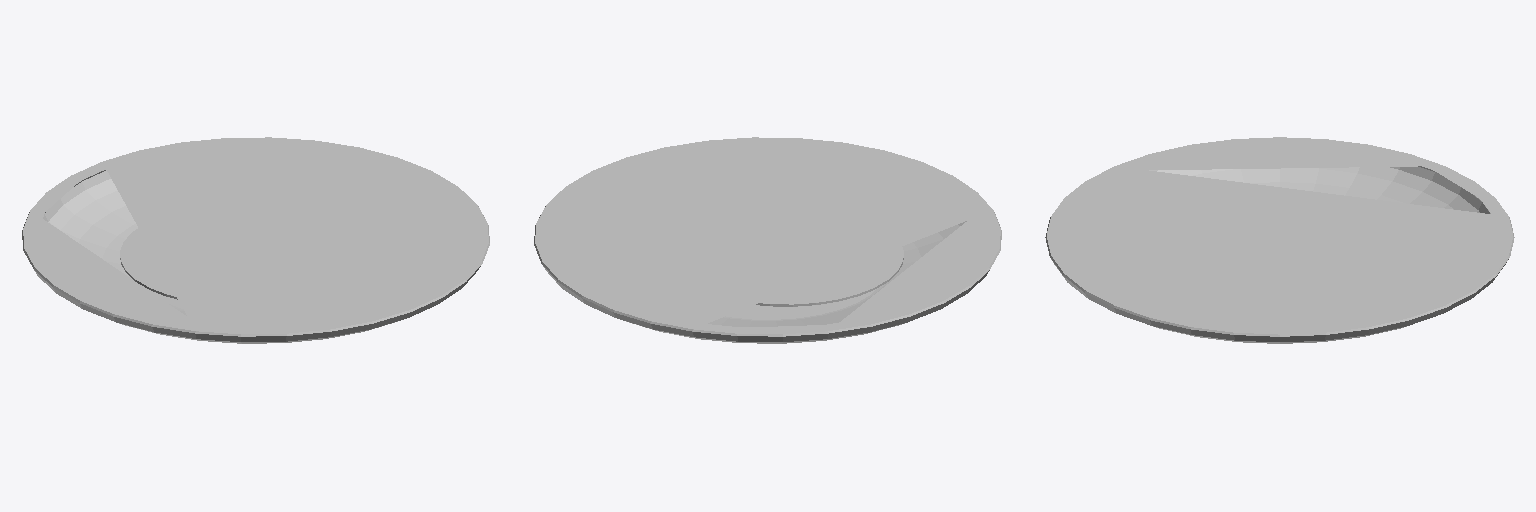
The model's file is map.obj.
3 views of the same model, side by side, from view 1: azimuth 30°, elevation 25°; view 2: azimuth 150°, elevation 25°; view 3: azimuth 270°, elevation 25° (orthographic).
Visible parts, largest first — view 1: Cone; view 2: Cone; view 3: Cone.
Part boxes in pixels (x1,y1,x2,y2): Cone: (22,137,489,343); Cone: (534,137,1001,343); Cone: (1045,137,1514,343).
Size of the model in its own units: 232 by 21.97 by 232.